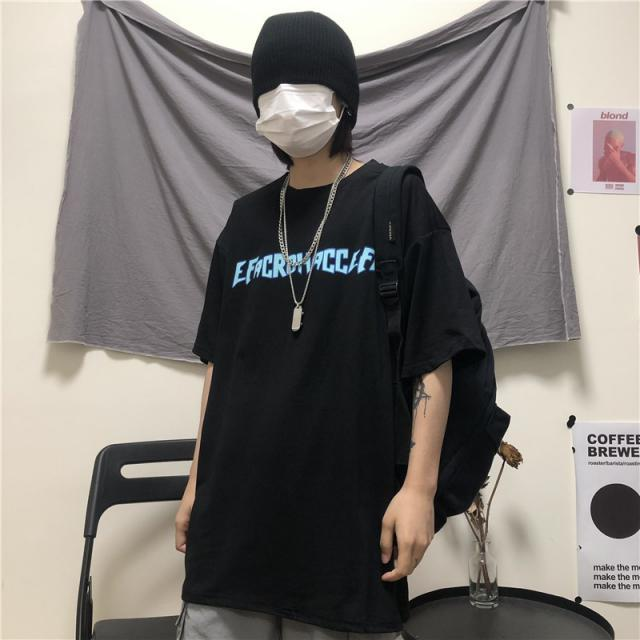Shirt: (187, 159, 483, 629)
